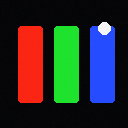2 circle: (98, 22, 110, 34)
